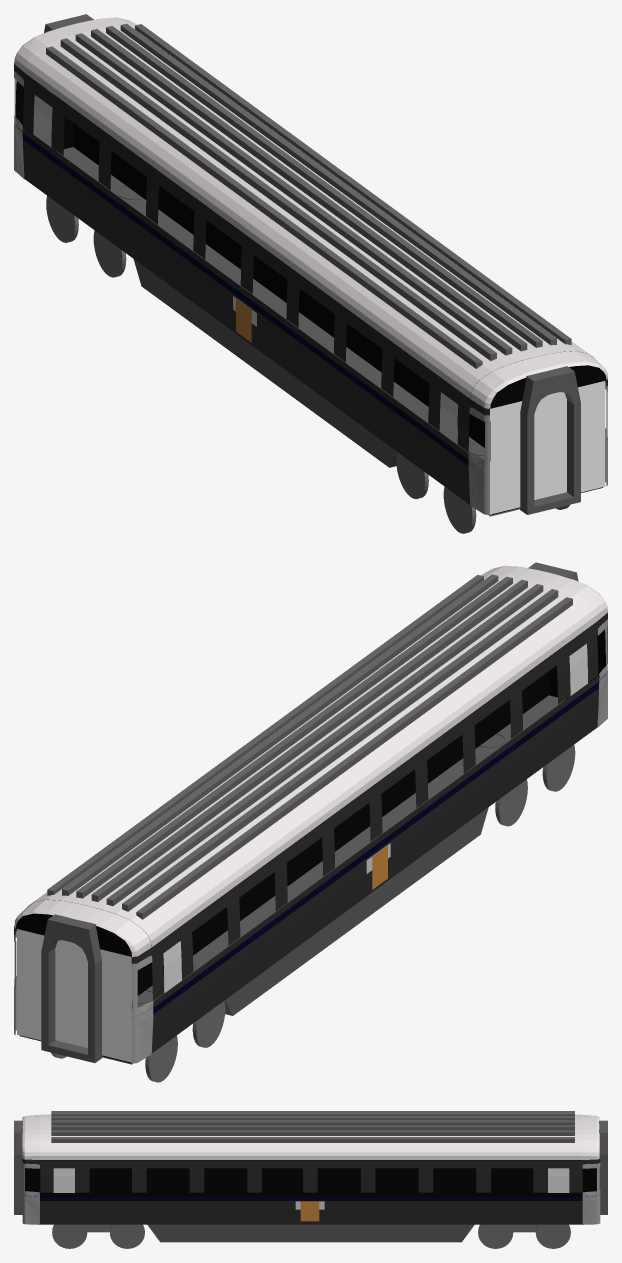
3 renders of one model, top to bottom at view 1: azimuth 30°, elevation 25°; view 2: azimuth 150°, elevation 25°; view 3: azimuth 270°, elevation 25°, orthographic. The views are drawn at different scales.
Visible parts, largest first — view 1: Suzanne_001, Plane_007, Plane_001, Plane_111, Cube_010, Cube, Cube_011, Cube_008, Cube_009, Cube_004, Plane_002, Cube_002 (+15 smaller); view 2: Suzanne_001, Plane_007, Plane_100, Plane_111, Cube, Cube_010, Cube_011, Cube_008, Cube_009, Cube_004, Plane_002, Cube_002 (+14 smaller); view 3: Plane_134, Plane_111, Suzanne_001, Cube, Cube_002, Cube_003, Cube_004, Cube_008, Plane_135, Plane_136, Cube_009, Cube_010 (+28 smaller).
Part boxes in pixels (bbox=[...]): Suzanne_001: bbox=[24, 24, 593, 398]; Plane_007: bbox=[23, 140, 470, 504]; Plane_001: bbox=[490, 381, 605, 514]; Plane_111: bbox=[73, 109, 484, 447]; Cube_010: bbox=[60, 38, 496, 360]; Cube: bbox=[133, 259, 396, 467]; Cube_011: bbox=[46, 46, 482, 368]; Cube_008: bbox=[91, 29, 527, 351]; Cube_009: bbox=[75, 33, 512, 355]; Cube_004: bbox=[106, 26, 542, 347]; Plane_002: bbox=[56, 147, 489, 468]; Cube_002: bbox=[120, 23, 556, 345]; Suzanne_001: bbox=[28, 573, 596, 947]; Plane_007: bbox=[151, 688, 598, 1053]; Plane_100: bbox=[17, 929, 132, 1062]; Plane_111: bbox=[135, 657, 548, 995]; Cube: bbox=[224, 807, 488, 1015]; Cube_010: bbox=[122, 589, 558, 911]; Cube_011: bbox=[136, 597, 572, 919]; Cube_008: bbox=[91, 579, 527, 901]; Cube_009: bbox=[106, 584, 543, 906]; Cube_004: bbox=[76, 576, 512, 898]; Plane_002: bbox=[133, 695, 565, 1016]; Cube_002: bbox=[62, 574, 498, 895]; Plane_134: bbox=[40, 1201, 582, 1224]; Plane_111: bbox=[25, 1159, 596, 1196]; Suzanne_001: bbox=[40, 1114, 582, 1159]; Cube: bbox=[147, 1224, 474, 1242]; Cube_002: bbox=[51, 1130, 574, 1135]; Cube_003: bbox=[51, 1137, 574, 1142]; Cube_004: bbox=[51, 1125, 574, 1130]; Cube_008: bbox=[51, 1120, 574, 1125]; Plane_135: bbox=[40, 1160, 582, 1164]; Plane_136: bbox=[40, 1164, 582, 1168]; Cube_009: bbox=[51, 1116, 574, 1120]; Cube_010: bbox=[51, 1112, 574, 1116].
Size of the model in its own units: 2.14 by 13.39 by 2.81.
